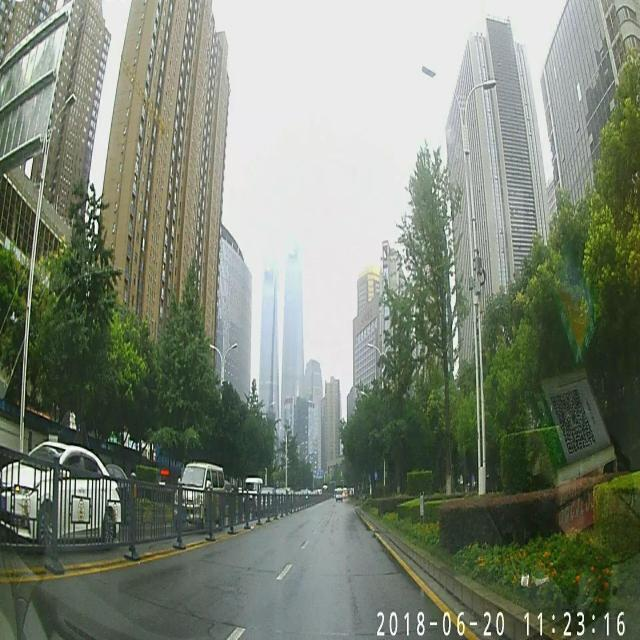car: (2, 434, 120, 545), (174, 456, 226, 520), (336, 486, 344, 500)
